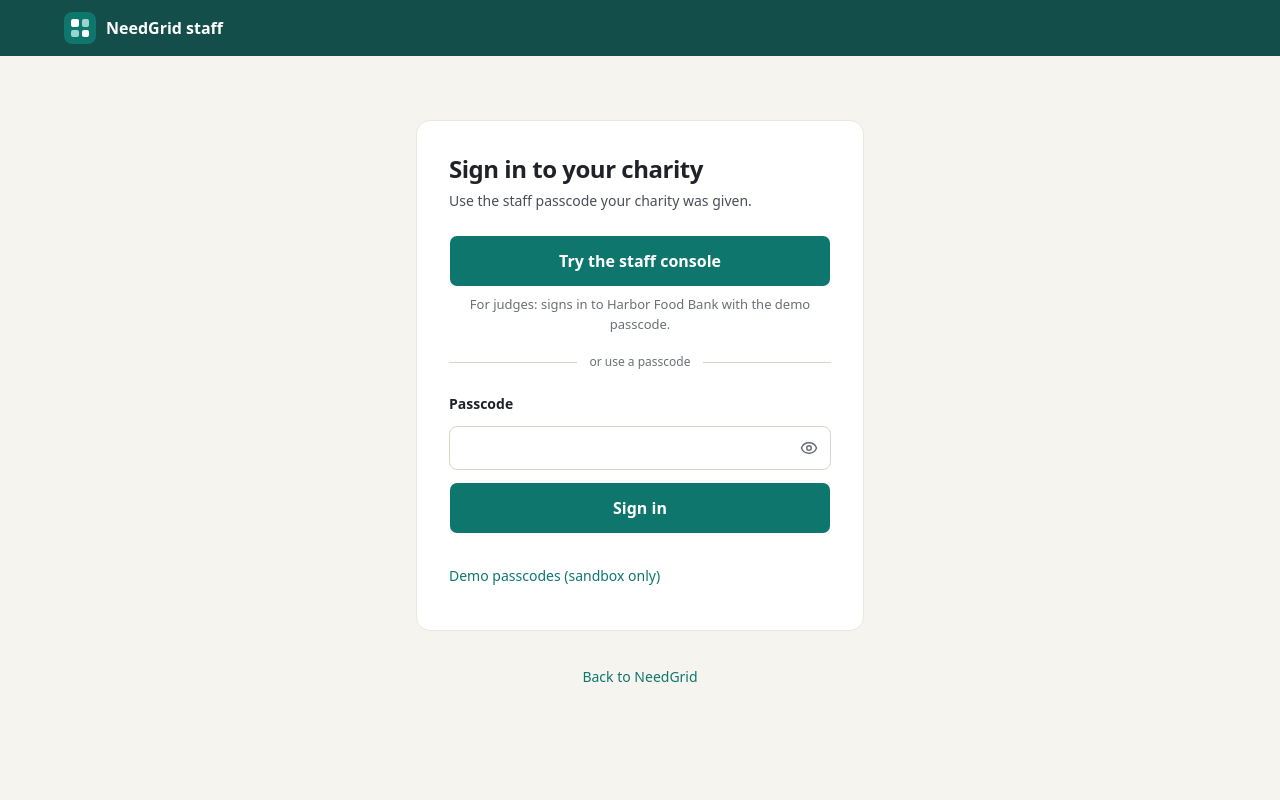
Staff login /staff/login › a wrong passcode stays here, says so inline and stores nothing
Expected: the heading "Sign in to your charity" is shown, top-left (449, 152), bottom-right (703, 185)
Type "wrongcode" into the password field labelled "Passcode". click: (640, 448)
box: top-left (449, 426), bottom-right (831, 470)
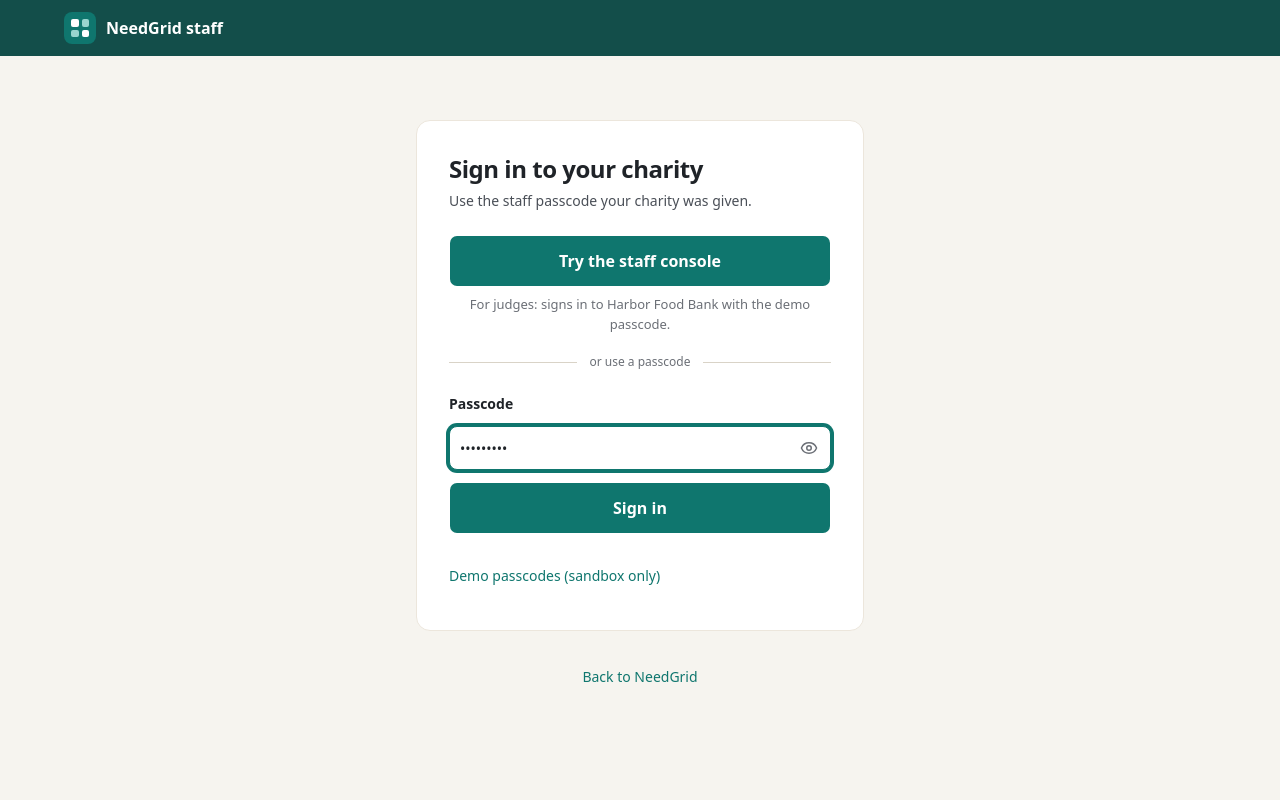
Click the button "Sign in". click: click(640, 508)
box: top-left (449, 482), bottom-right (831, 534)
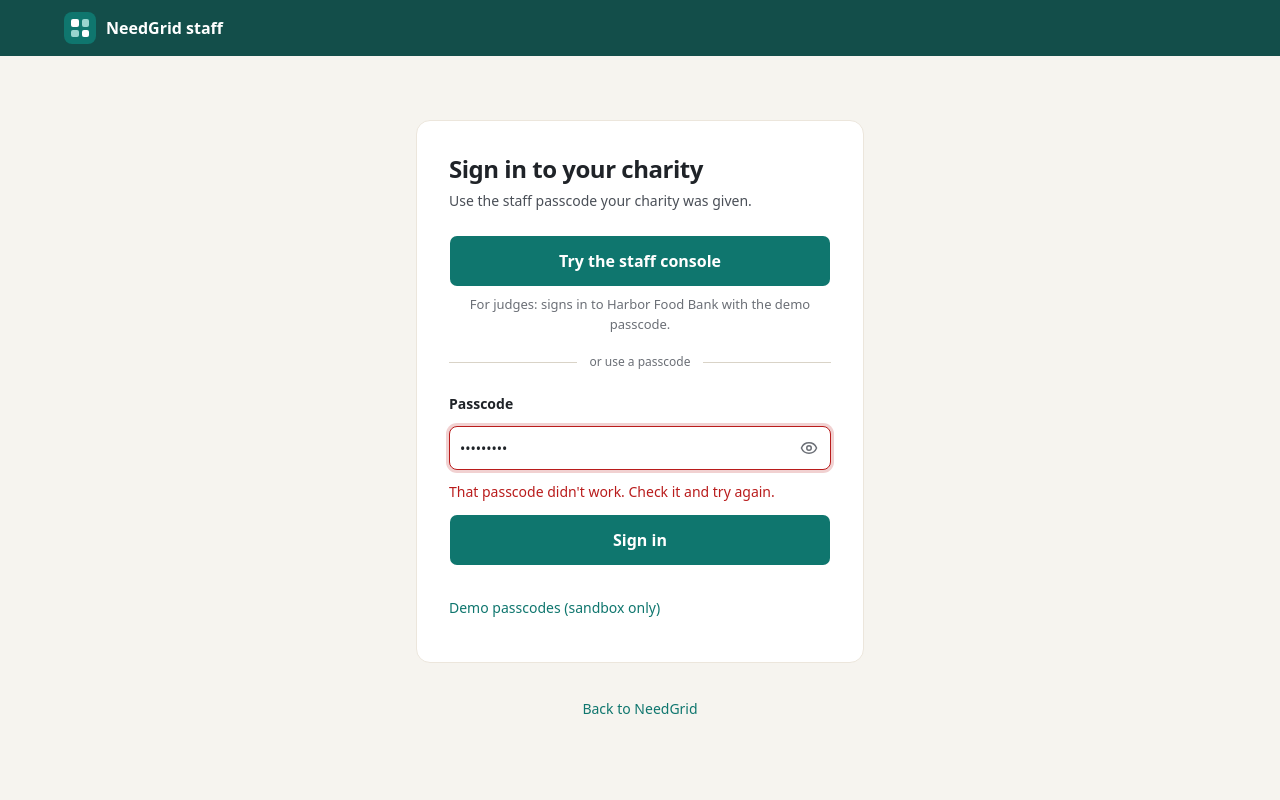
Result: the text "That passcode didn't work. Check it and try again." is shown at top-left (449, 482), bottom-right (831, 502)
